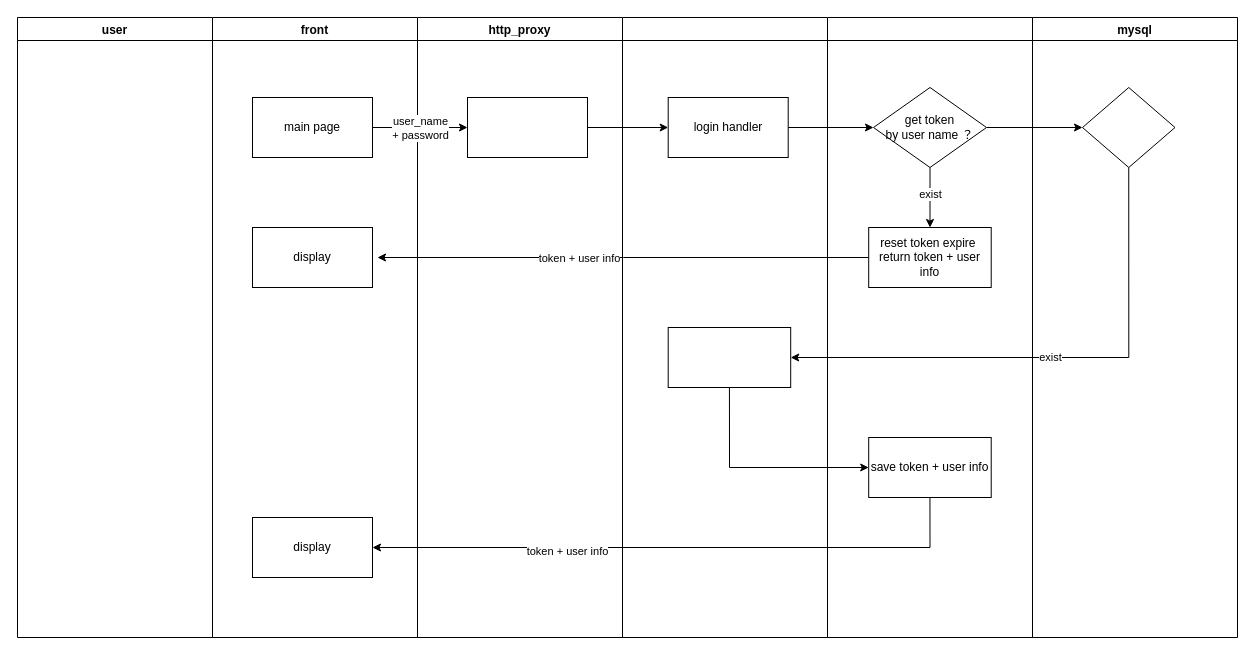
The diagram is 1255 pixels wide and 655 high, and some of its shapes have lost their labels. Each missing label, with the box of its shape:
/login: (466, 96, 588, 158)
generate token: (667, 326, 791, 388)
redis: (826, 16, 1032, 638)
search user_name?: (1082, 86, 1175, 168)
tcp server: (622, 16, 828, 638)
